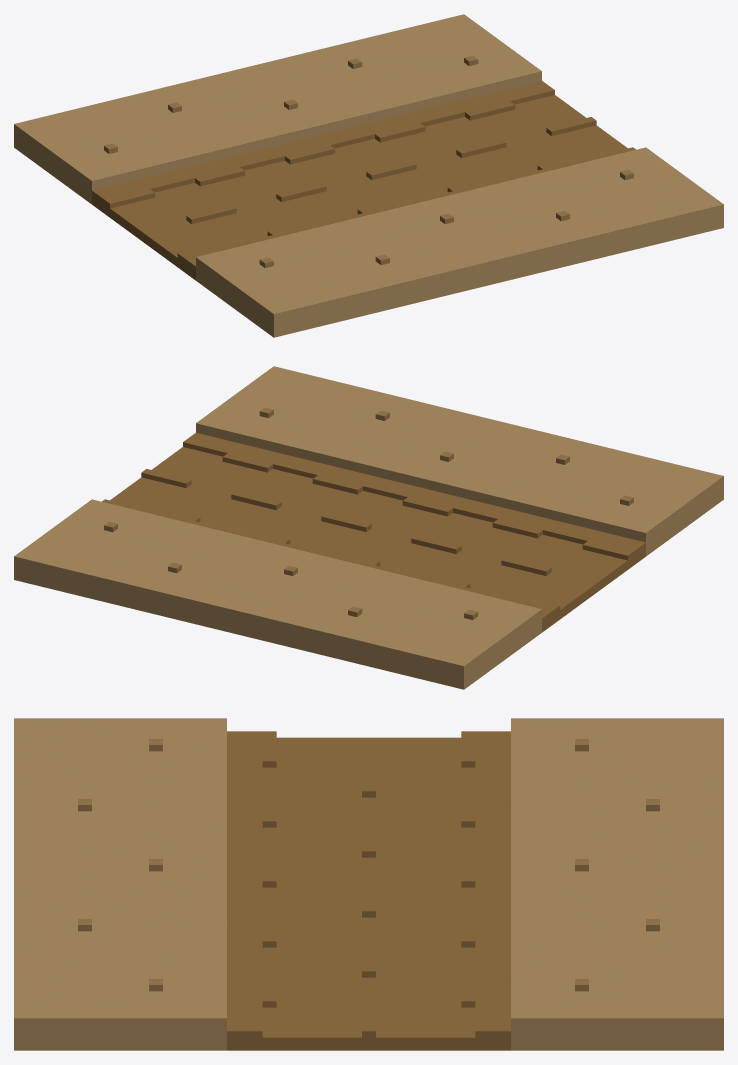
File: Background_B_road.FBX
3 views of the same model, one above another, from view 1: azimuth 30°, elevation 25°; view 2: azimuth 150°, elevation 25°; view 3: azimuth 270°, elevation 25° (orthographic). The views are drawn at different scales.
Parts seen in each view (by area): view 1: untitled-18; view 2: untitled-18; view 3: untitled-18.
Boxes of the visible parts, x1,y1,x2,y2 form: untitled-18: (14,14,723,337); untitled-18: (14,366,723,689); untitled-18: (14,718,723,1050).
Bounding box in the file's own units: 10 × 0.6 × 10.
1 material, 1 textured.
